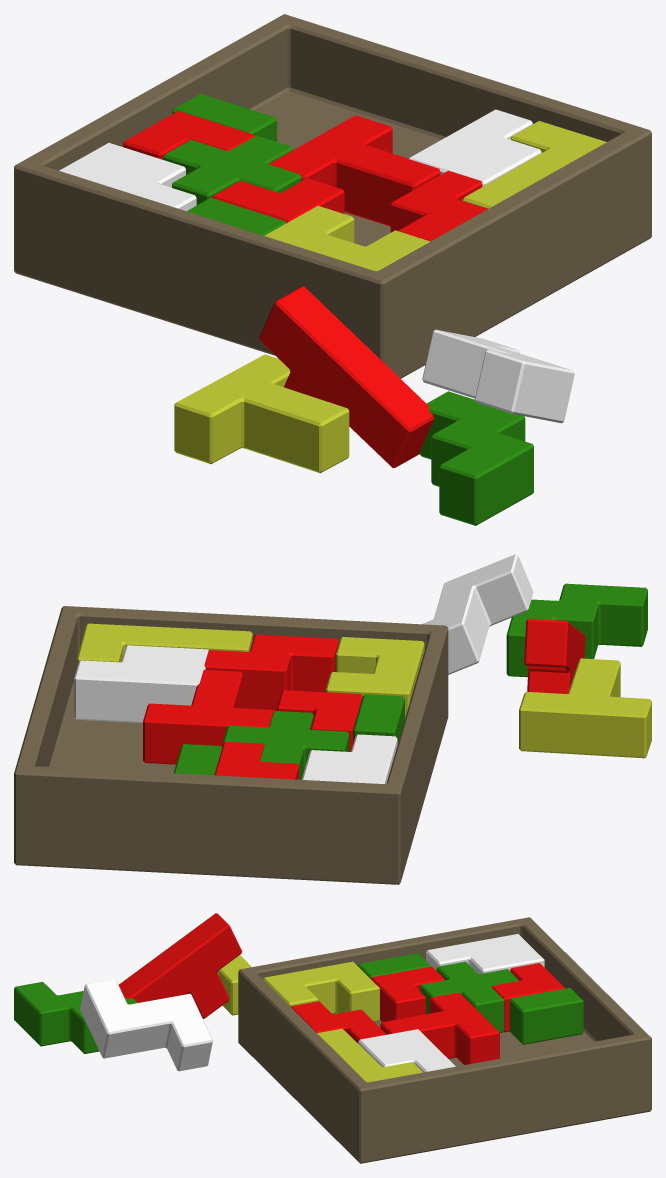
The model's file is Puzzle.glb.
3 views of the same model, one above another, from view 1: azimuth 30°, elevation 25°; view 2: azimuth 150°, elevation 25°; view 3: azimuth 270°, elevation 25° (orthographic). The views are drawn at different scales.
Visible parts, largest first — view 1: Caballete_Puzzle; view 2: Caballete_Puzzle; view 3: Caballete_Puzzle.
Boxes of the visible parts, x1,y1,x2,y2 form: Caballete_Puzzle: (14, 14, 651, 525); Caballete_Puzzle: (14, 554, 651, 884); Caballete_Puzzle: (14, 913, 651, 1163).
Size of the model in its own units: 0.2223 by 0.0485 by 0.3086.
